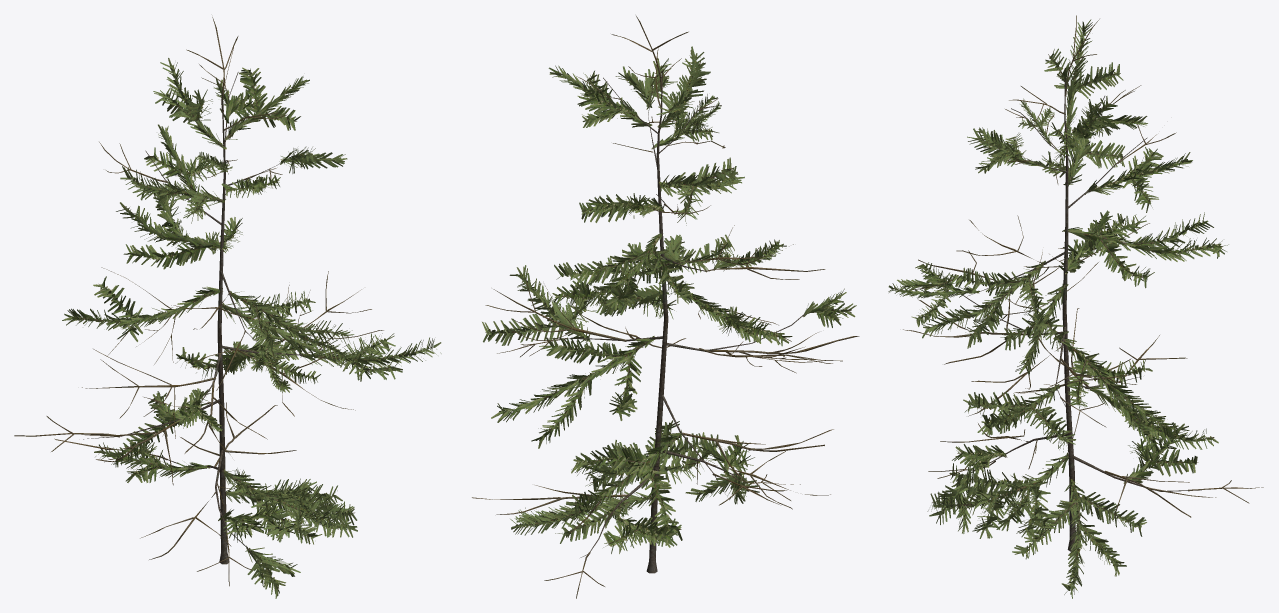
The model's file is fir-sapling.glb.
3 renders of one model, left to right at view 1: azimuth 30°, elevation 25°; view 2: azimuth 150°, elevation 25°; view 3: azimuth 270°, elevation 25°, orthographic. The views are drawn at different scales.
Visible parts, largest first — view 1: fir_sapling_a; view 2: fir_sapling_a; view 3: fir_sapling_a.
Boxes of the visible parts, bbox=[...] form: fir_sapling_a: bbox=[14, 17, 441, 598]; fir_sapling_a: bbox=[472, 16, 859, 598]; fir_sapling_a: bbox=[888, 15, 1263, 598].
Size of the model in its own units: 0.8484 by 1.27 by 0.8111.
Materials: 2 (2 with a texture image).
